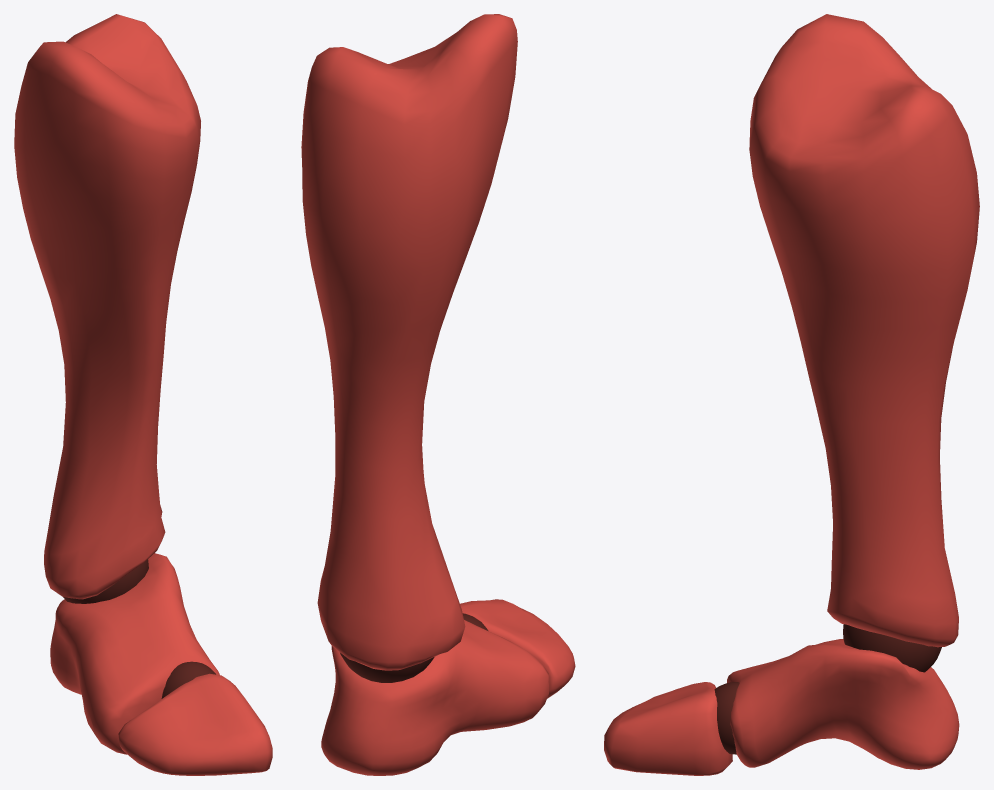
File: piernaDer.obj
3 renders of one model, left to right at view 1: azimuth 30°, elevation 25°; view 2: azimuth 150°, elevation 25°; view 3: azimuth 270°, elevation 25°, orthographic. The views are drawn at different scales.
Visible parts, largest first — view 1: Beta_Surface.004_Mesh.006, Beta_Joints.006_Mesh.014; view 2: Beta_Surface.004_Mesh.006, Beta_Joints.006_Mesh.014; view 3: Beta_Surface.004_Mesh.006, Beta_Joints.006_Mesh.014.
Boxes of the visible parts, <box> form: Beta_Surface.004_Mesh.006: <box>14,14,272,775</box>; Beta_Joints.006_Mesh.014: <box>63,559,215,698</box>; Beta_Surface.004_Mesh.006: <box>301,14,575,775</box>; Beta_Joints.006_Mesh.014: <box>340,613,488,682</box>; Beta_Surface.004_Mesh.006: <box>604,14,979,775</box>; Beta_Joints.006_Mesh.014: <box>714,624,941,754</box>.
Bounding box in the file's own units: 0.1363 × 0.551 × 0.2642.
